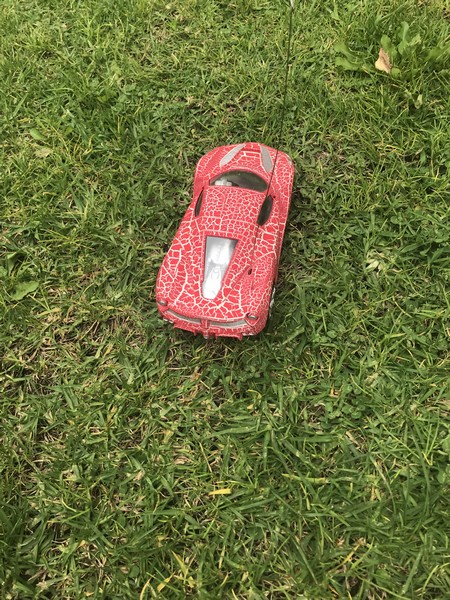RC: (151, 141, 298, 342)
